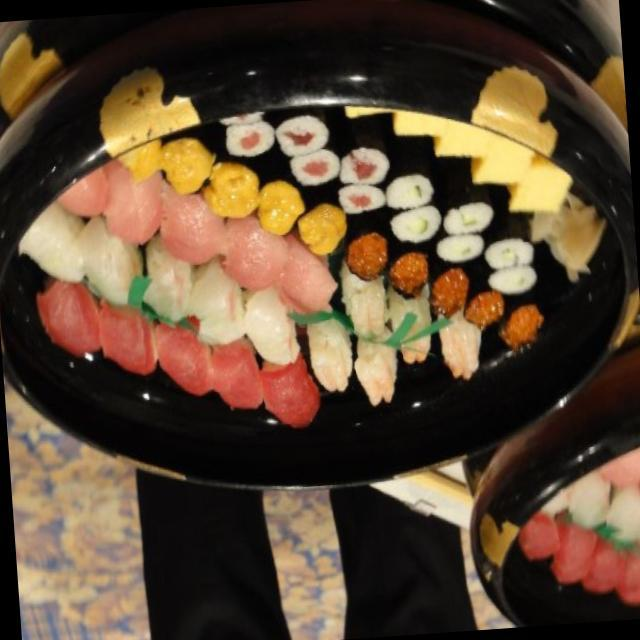Sushi: (61, 84, 558, 476)
